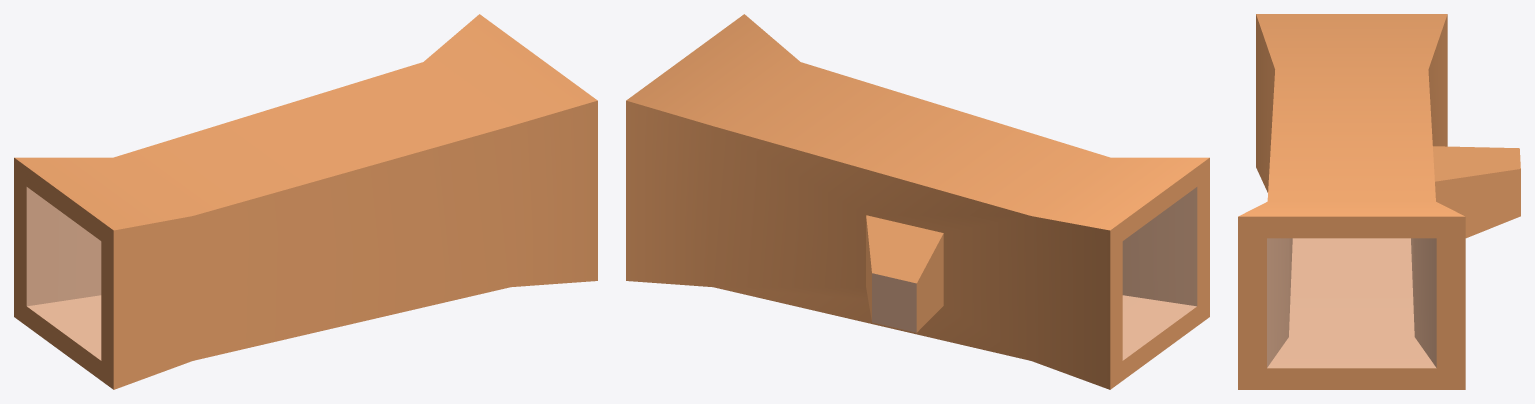
File: log_large.obj
The picture shows the model from 3 angles, left to right: view 1: azimuth 30°, elevation 25°; view 2: azimuth 150°, elevation 25°; view 3: azimuth 270°, elevation 25°; orthographic projection. The views are drawn at different scales.
Visible parts, largest first — view 1: log_large; view 2: log_large; view 3: log_large.
Part boxes in pixels (x1=…): log_large: x1=14, y1=14, x2=597, y2=389; log_large: x1=626, y1=14, x2=1209, y2=389; log_large: x1=1238, y1=14, x2=1520, y2=389.
Size of the model in its own units: 7.66 by 2.78 by 4.11.
